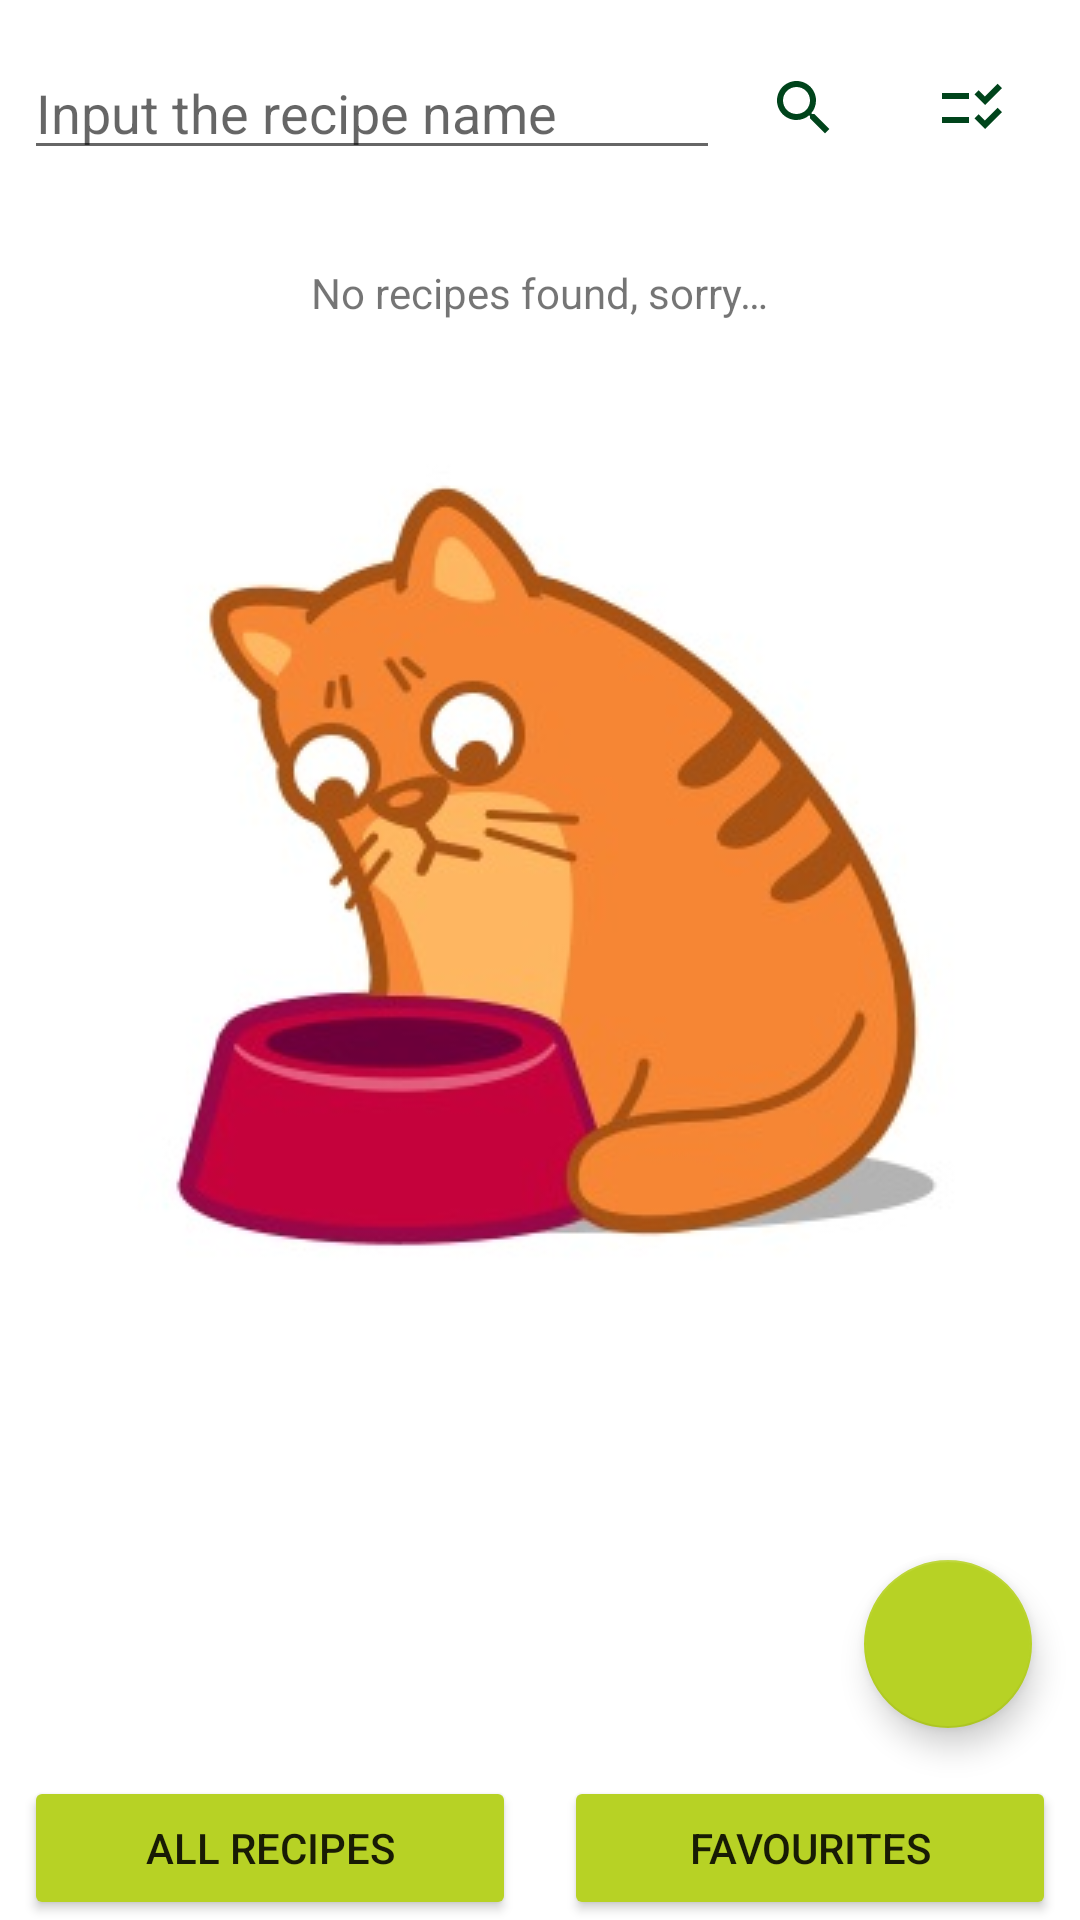

Icons on this 1080px x 1920px Android screen, each with the point to tap as (x,y):
filters: (972,106)
search: (803,107)
